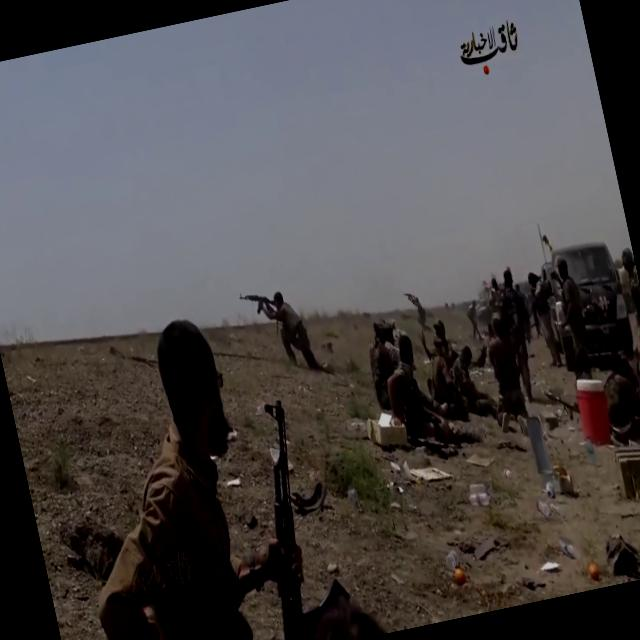long weapon: (221, 369, 363, 639), (234, 278, 278, 326)
